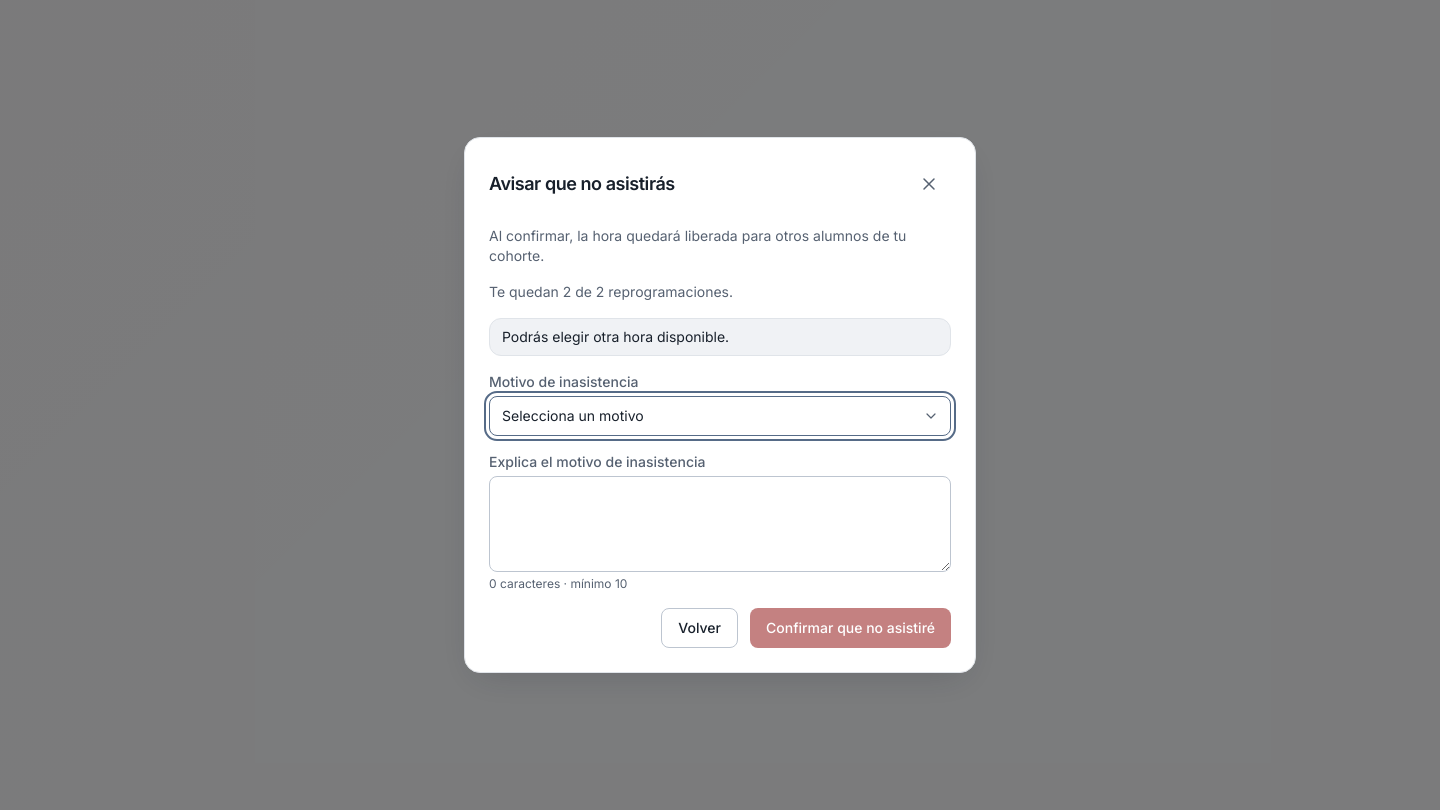
Test: CancelPracticeModal › muestra un error localizado para el campo motivoCategoria, sin enseñar 'Invalid value'
Select "Salud" in the dropdown labelled "Motivo de inasistencia" at x=720, y=416, box [489,396,951,436]
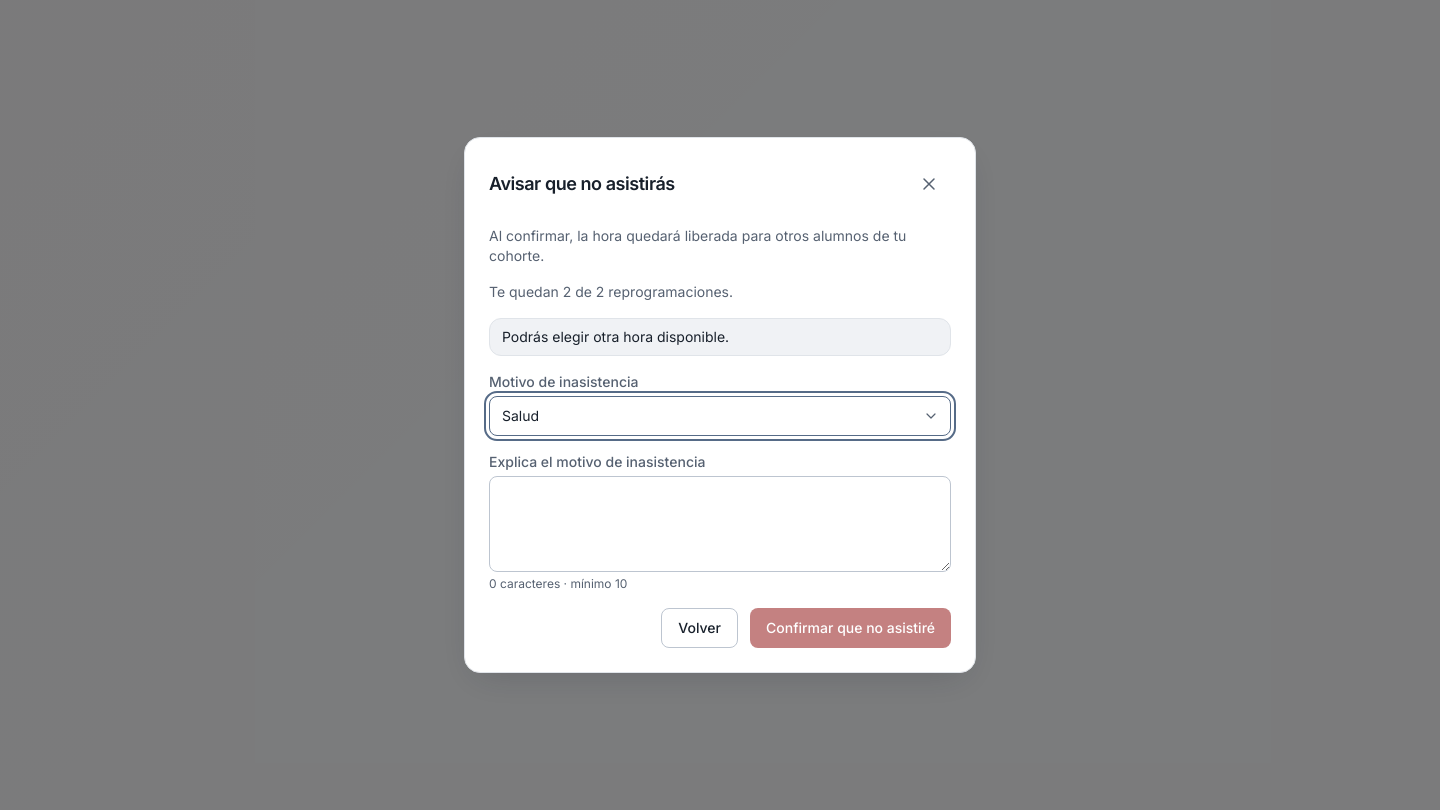
Type "Cita médica confirmada" into the text box labelled "Explica el motivo de inasistencia" at x=720, y=524, box [489,476,951,572]
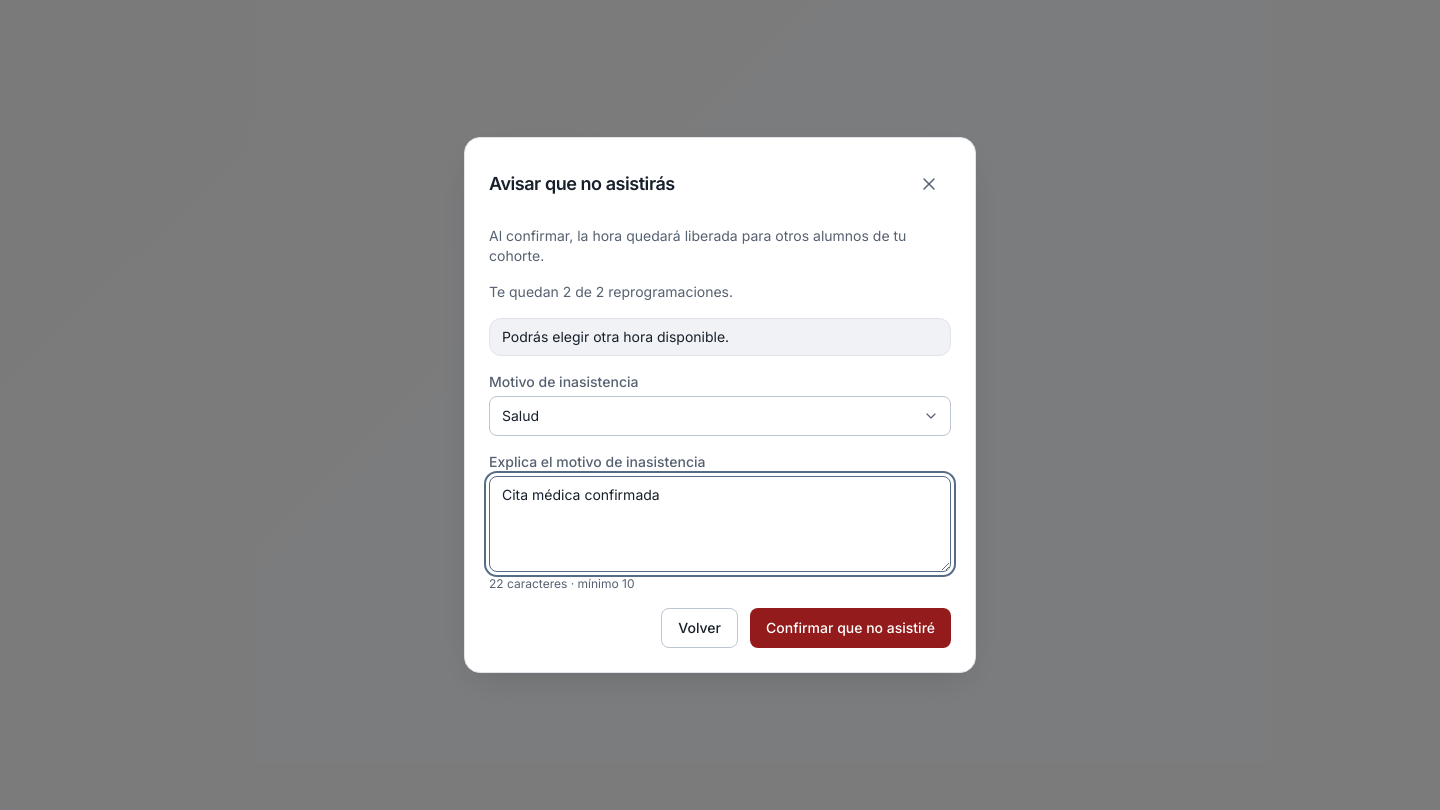
Click the button "Confirmar que no asistiré" at x=850, y=628, box [750,608,951,648]
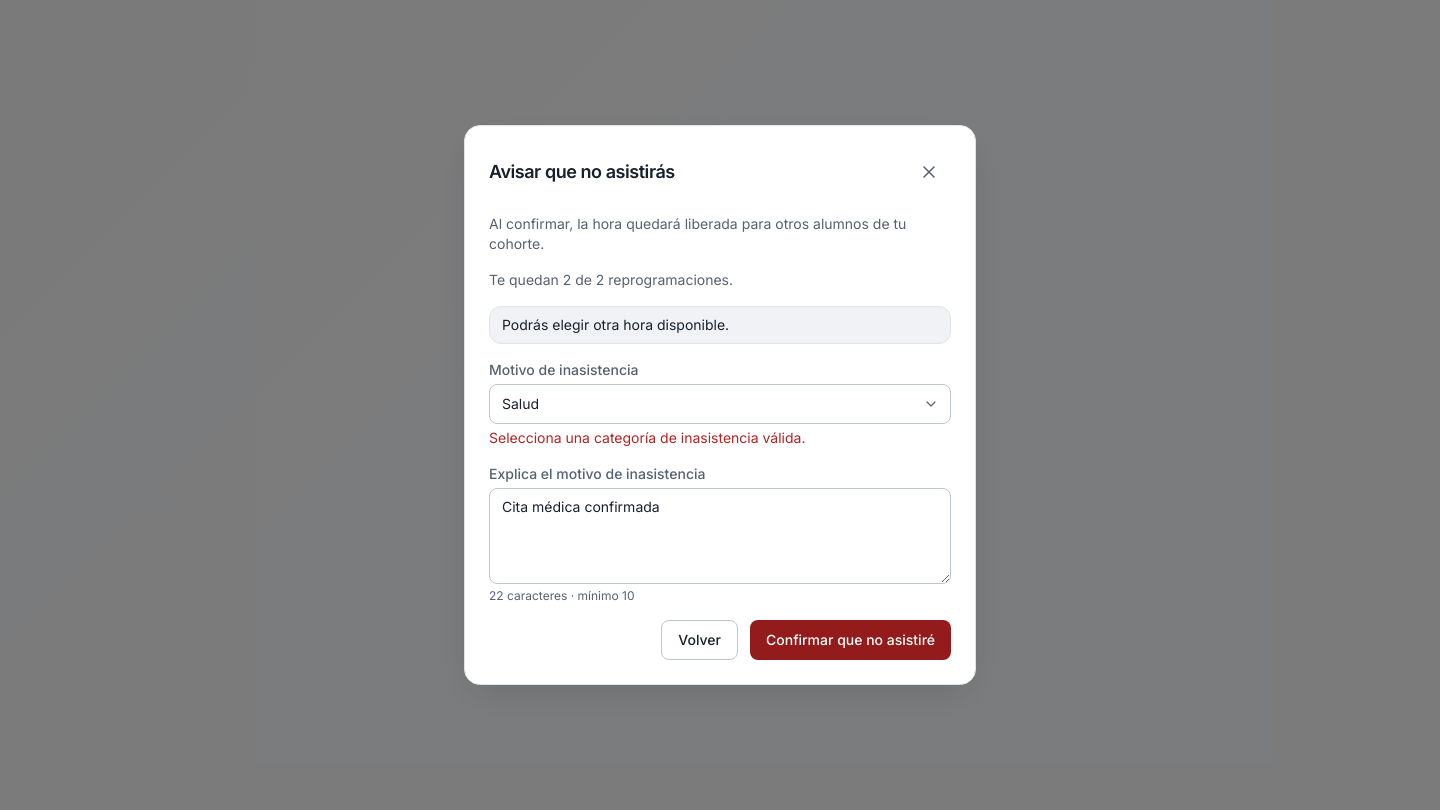
Expected: the message reads "Selecciona una categoría de inasistencia válida.", [489,429,805,446]
